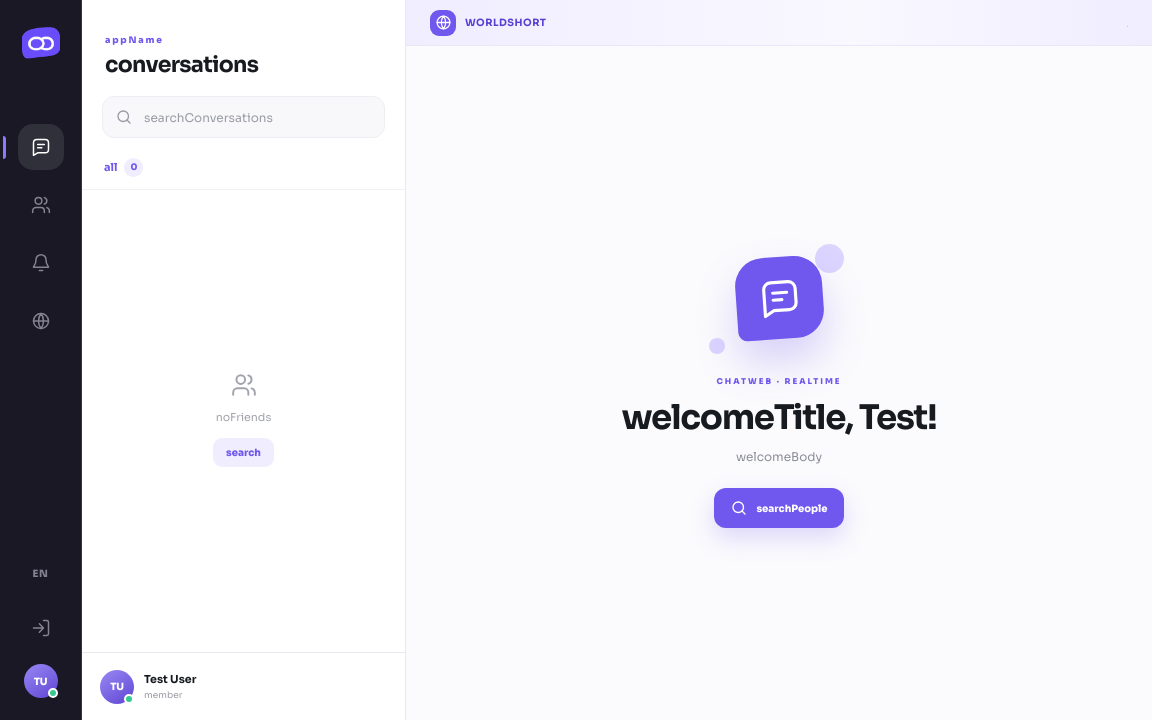
Test: ChatPage Notification Click Navigation Integration › clicking FRIEND_REQUEST notification switches section to friends and does NOT open chat with requester
This screenshot has width=1152, height=720.
What coordinates should you click on to do the following:
click the button titled "notifications"
I would click on:
 (40, 263)
Its box is [18,240,64,286].
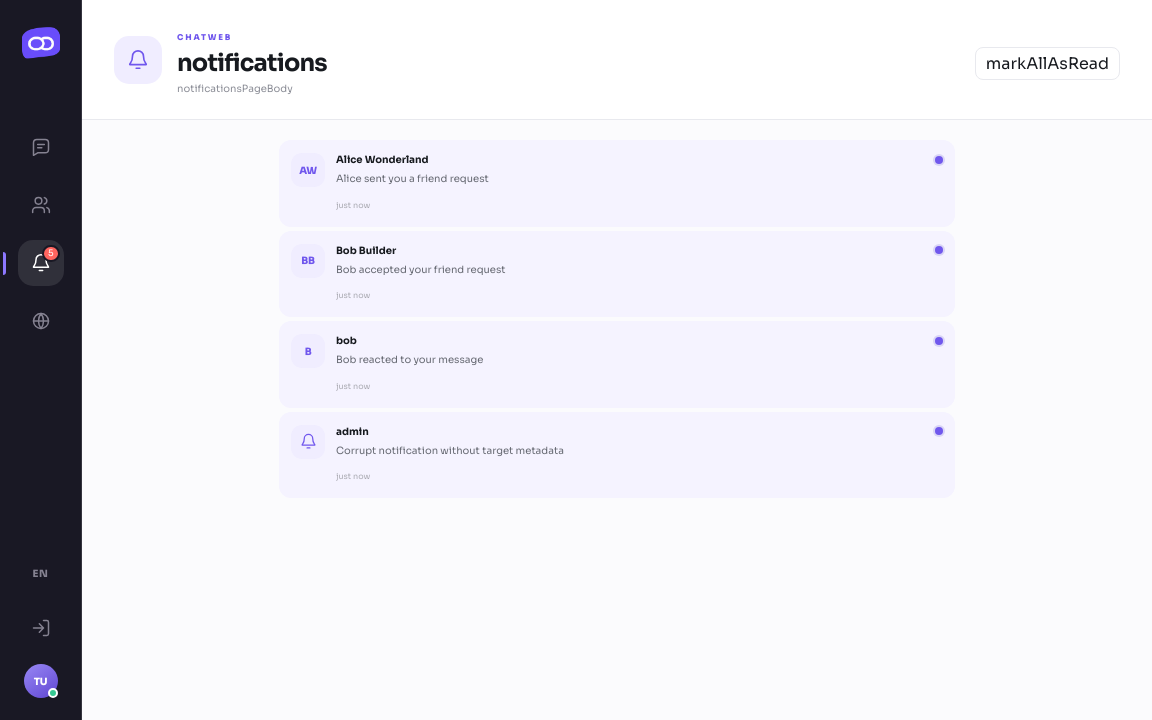
Now the element "notifications" is shown
What coordinates should you click on to do the following:
click the text "Alice sent you a friend request"
I would click on:
 (412, 178)
Its box is [336,172,489,185].
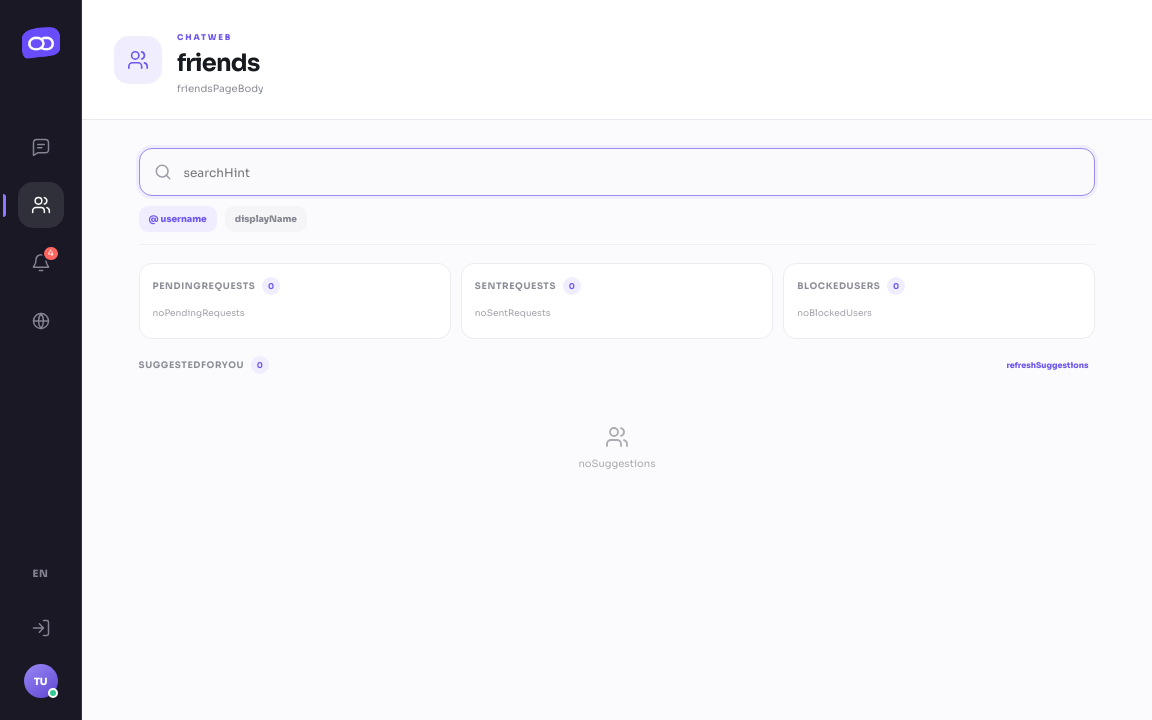
Now the element "friends" is shown
